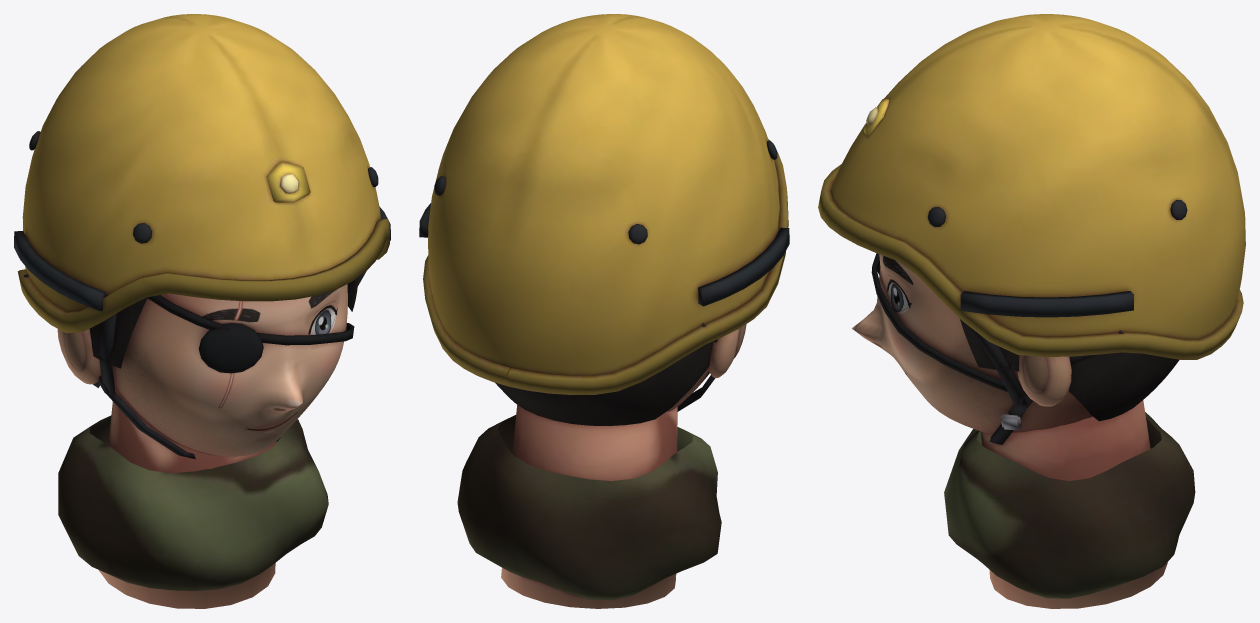
The model's file is cabeza-capitan-m.glb.
3 views of the same model, side by side, from view 1: azimuth 30°, elevation 25°; view 2: azimuth 150°, elevation 25°; view 3: azimuth 270°, elevation 25° (orthographic).
Parts seen in each view (by area): view 1: h_Head; view 2: h_Head; view 3: h_Head.
Part boxes in pixels (left/top/right/bottom): h_Head: left=14, top=14, right=390, bottom=608; h_Head: left=419, top=14, right=789, bottom=608; h_Head: left=818, top=14, right=1245, bottom=608.
Bounding box in the file's own units: 0.2522 × 0.4203 × 0.2952.
Materials: 1 (1 with a texture image).
